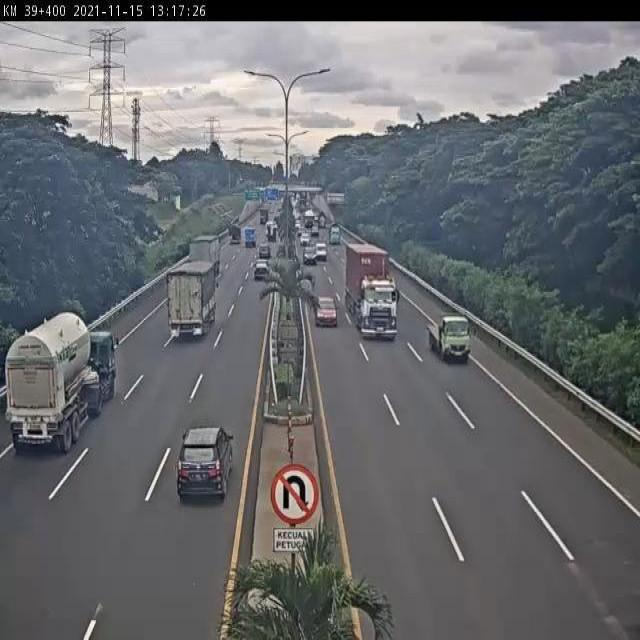car: (176, 427, 231, 503), (315, 297, 338, 327), (254, 260, 270, 281)
truck: (5, 312, 118, 448), (345, 244, 397, 339), (168, 260, 216, 340), (426, 315, 472, 360), (190, 236, 222, 277)
